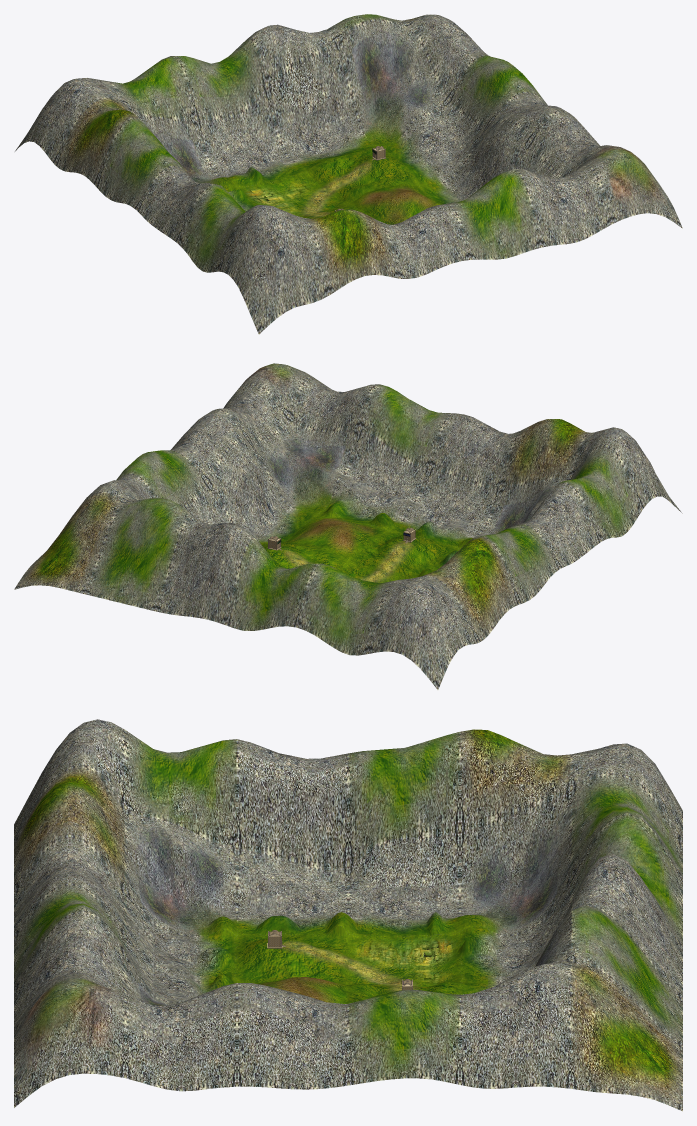
File: StarterZone.fbx
3 renders of one model, top to bottom at view 1: azimuth 30°, elevation 25°; view 2: azimuth 150°, elevation 25°; view 3: azimuth 270°, elevation 25°, orthographic. The views are drawn at different scales.
Visible parts, largest first — view 1: Mesh_0012; view 2: Mesh_0012; view 3: Mesh_0012.
Part boxes in pixels (x1,y1,x2,y2): Mesh_0012: (15,14,682,334); Mesh_0012: (14,363,682,689); Mesh_0012: (14,719,682,1111).
Size of the model in its own units: 600000 by 156614 by 600000.
Materials: 19 (19 with a texture image).
